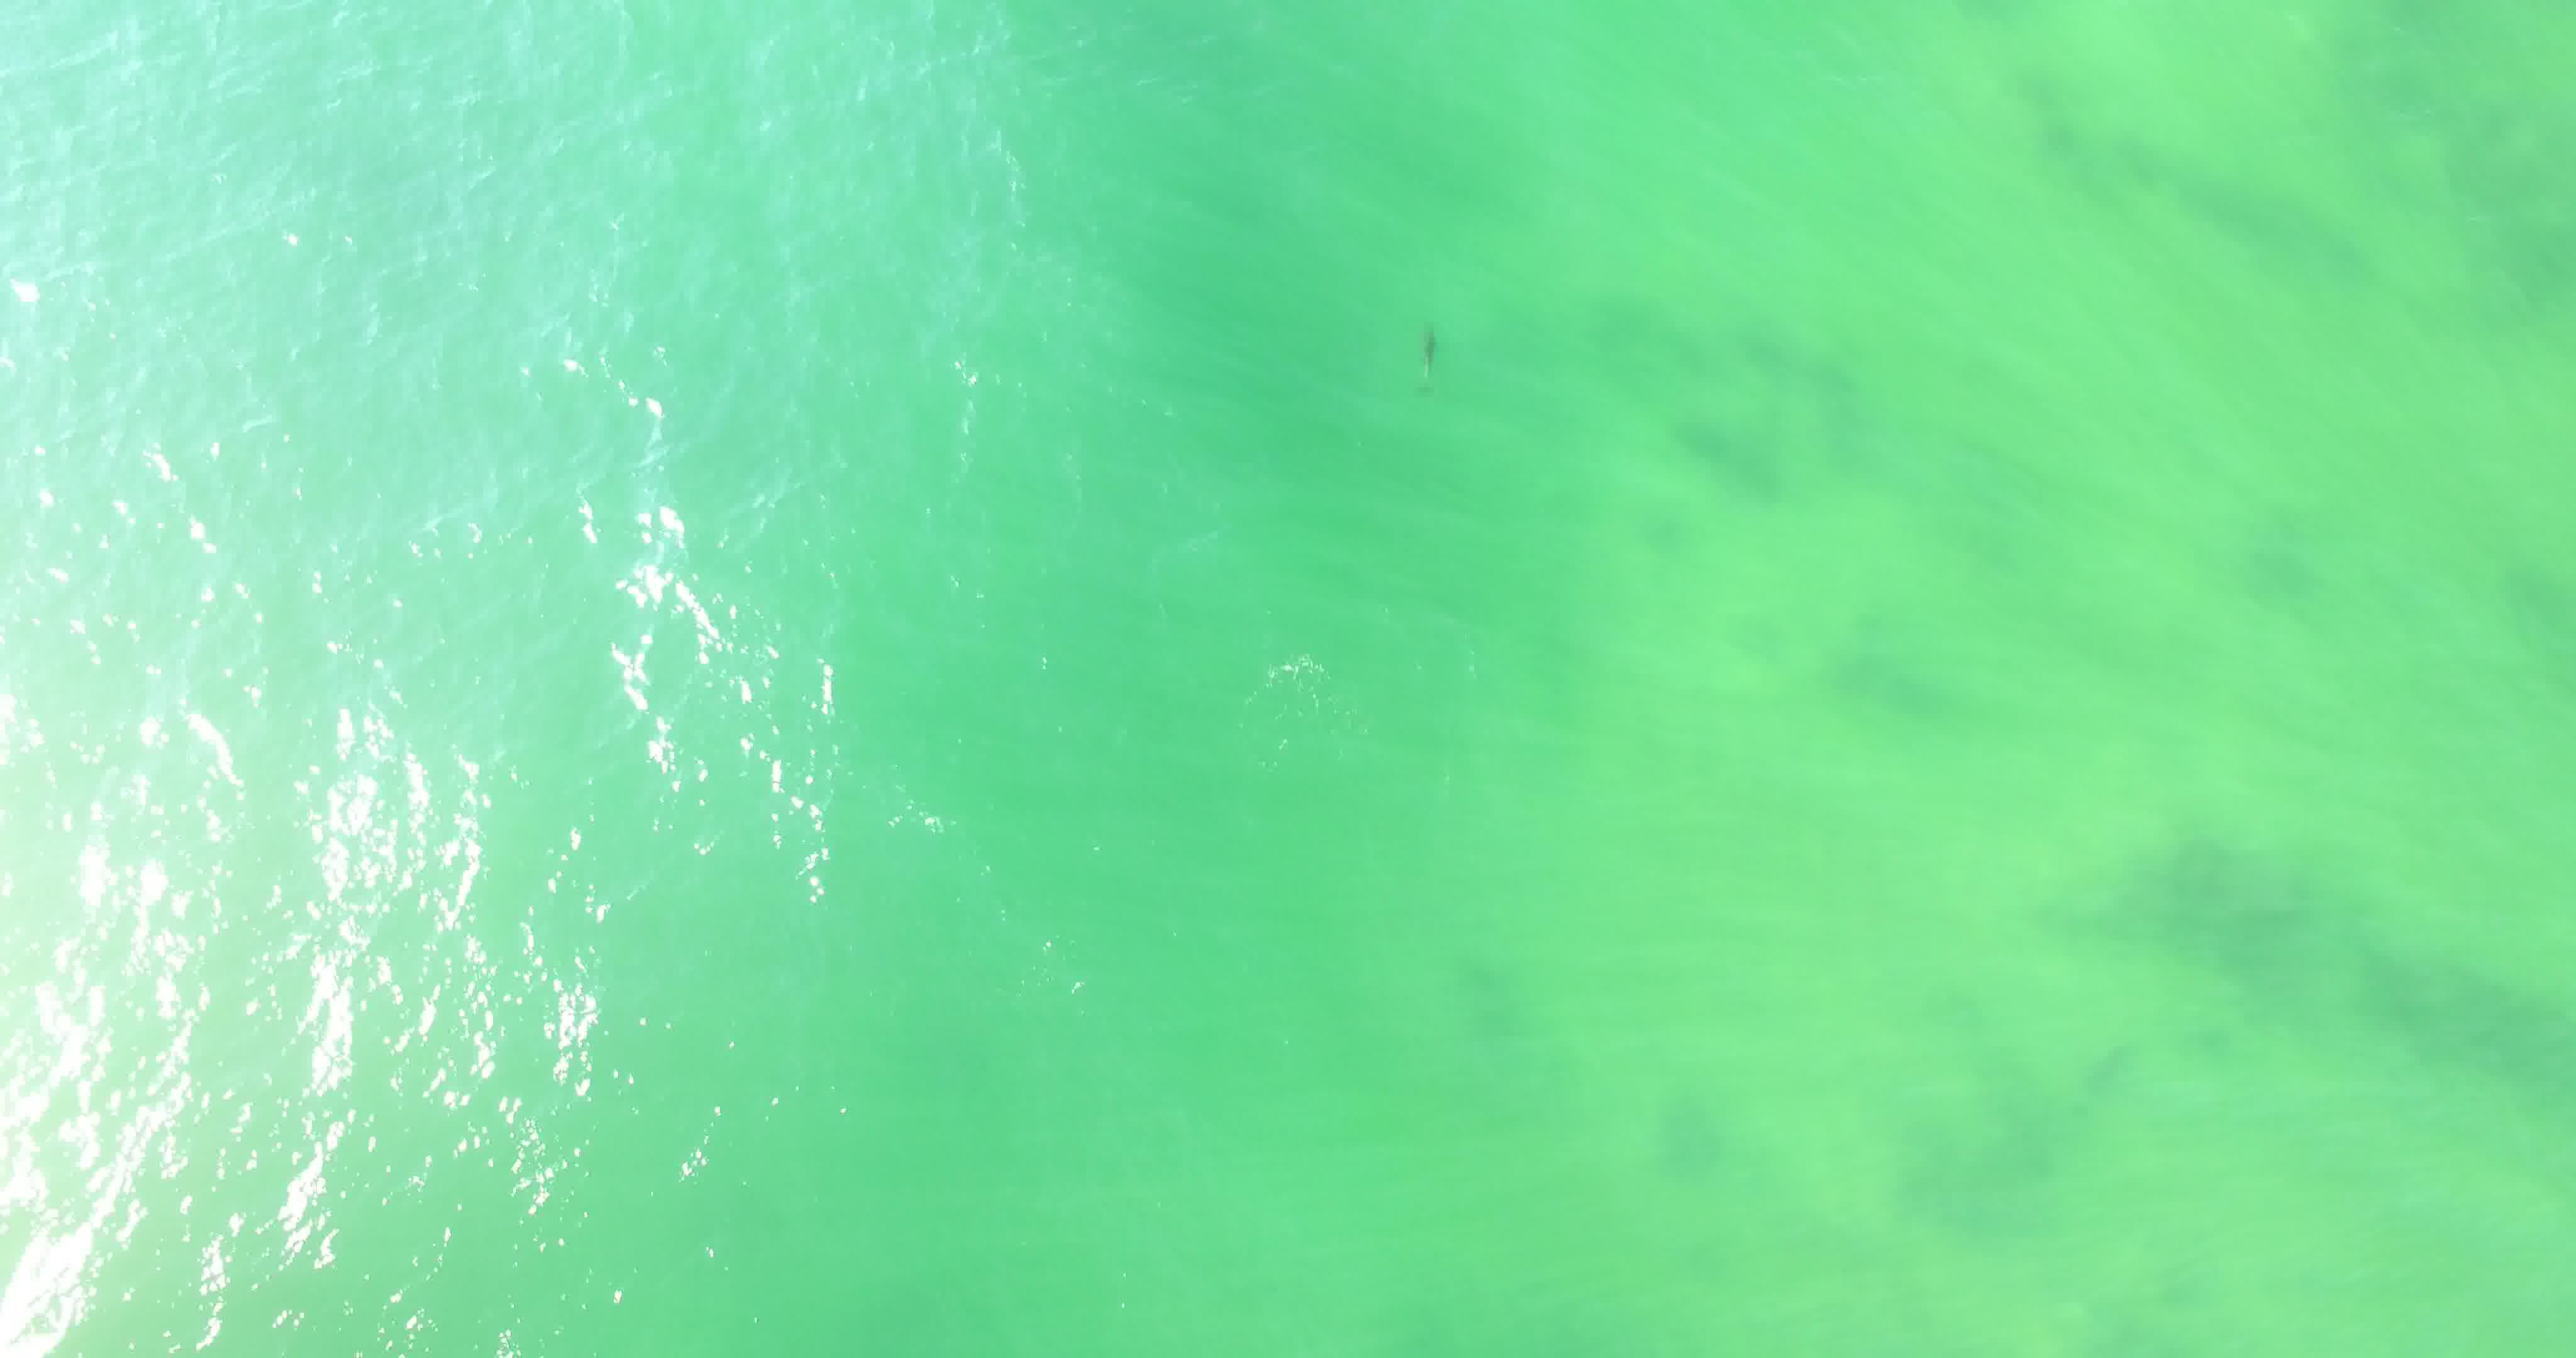dolphin: (1387, 288, 1457, 411)
